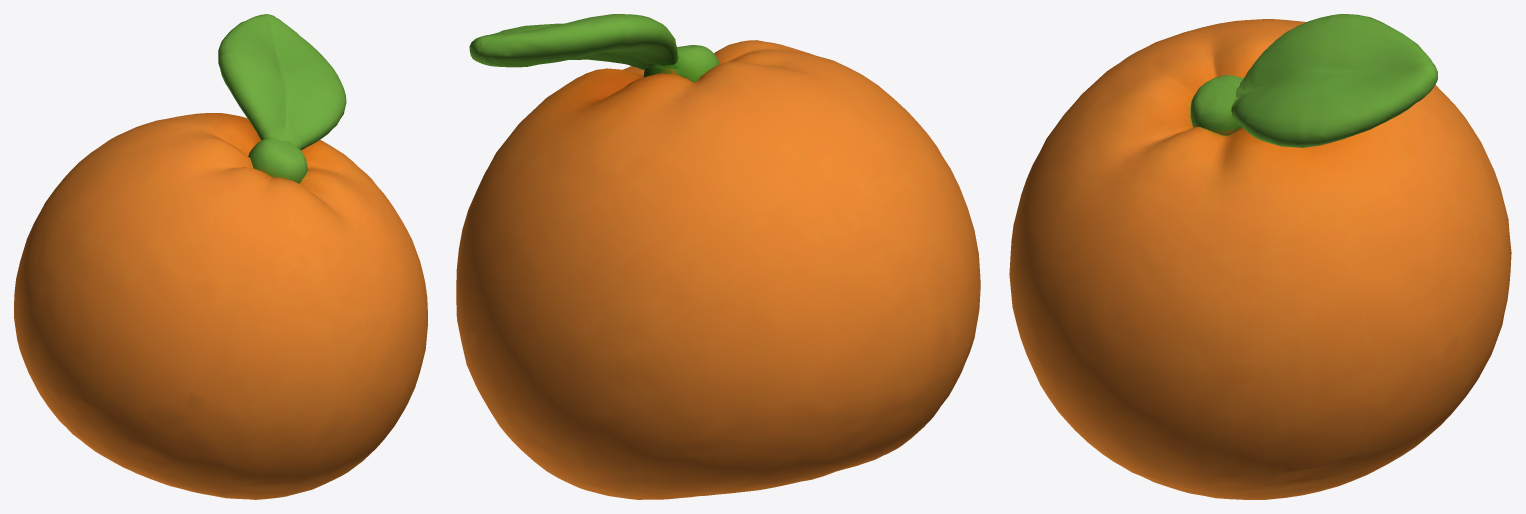
File: orange.glb
The picture shows the model from 3 angles, left to right: view 1: azimuth 30°, elevation 25°; view 2: azimuth 150°, elevation 25°; view 3: azimuth 270°, elevation 25°; orthographic projection. The views are drawn at different scales.
Visible parts, largest first — view 1: tripo_node_18feb090-bae8-42fd-810a-fc4ef1474e8c; view 2: tripo_node_18feb090-bae8-42fd-810a-fc4ef1474e8c; view 3: tripo_node_18feb090-bae8-42fd-810a-fc4ef1474e8c.
Boxes of the visible parts, x1,y1,x2,y2 form: tripo_node_18feb090-bae8-42fd-810a-fc4ef1474e8c: (14, 14, 427, 499); tripo_node_18feb090-bae8-42fd-810a-fc4ef1474e8c: (456, 14, 980, 499); tripo_node_18feb090-bae8-42fd-810a-fc4ef1474e8c: (1009, 14, 1511, 499).
Bounding box in the file's own units: 0.9786 × 0.998 × 0.9747.
Materials: 1 (1 with a texture image).
